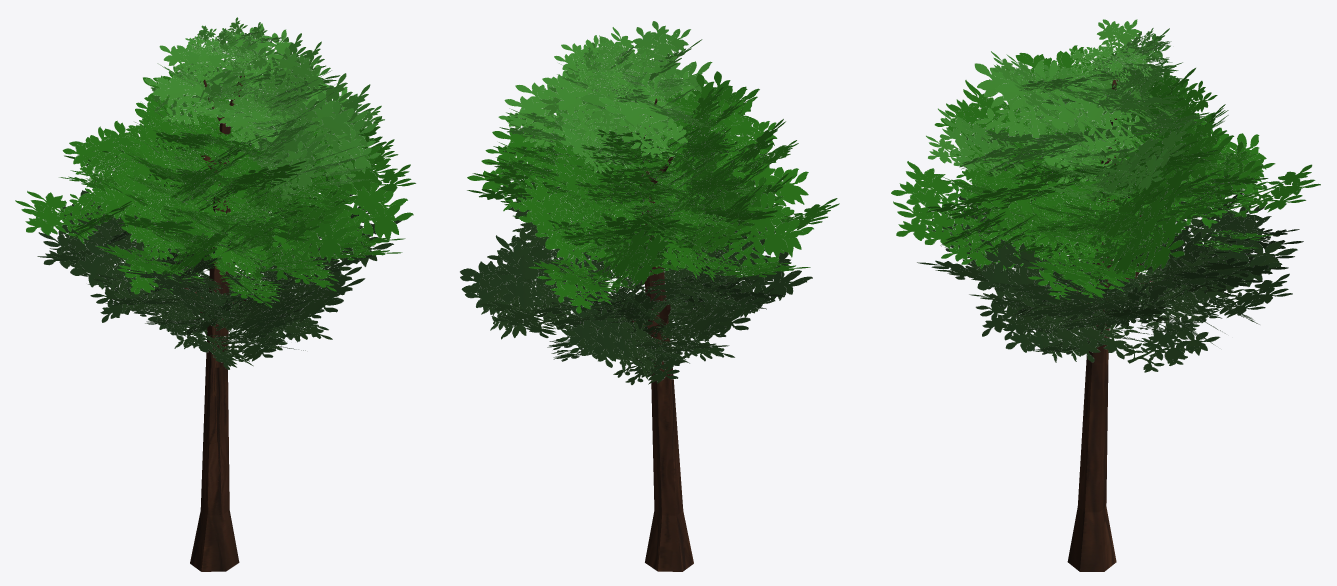
File: gBTree 1.fbx
3 views of the same model, side by side, from view 1: azimuth 30°, elevation 25°; view 2: azimuth 150°, elevation 25°; view 3: azimuth 270°, elevation 25° (orthographic). The views are drawn at different scales.
Parts seen in each view (by area): view 1: Cylinder; view 2: Cylinder; view 3: Cylinder.
Boxes of the visible parts, x1,y1,x2,y2 form: Cylinder: (15, 17, 416, 571); Cylinder: (460, 21, 839, 571); Cylinder: (891, 19, 1320, 571).
Size of the model in its own units: 1173 by 1507 by 1127.
